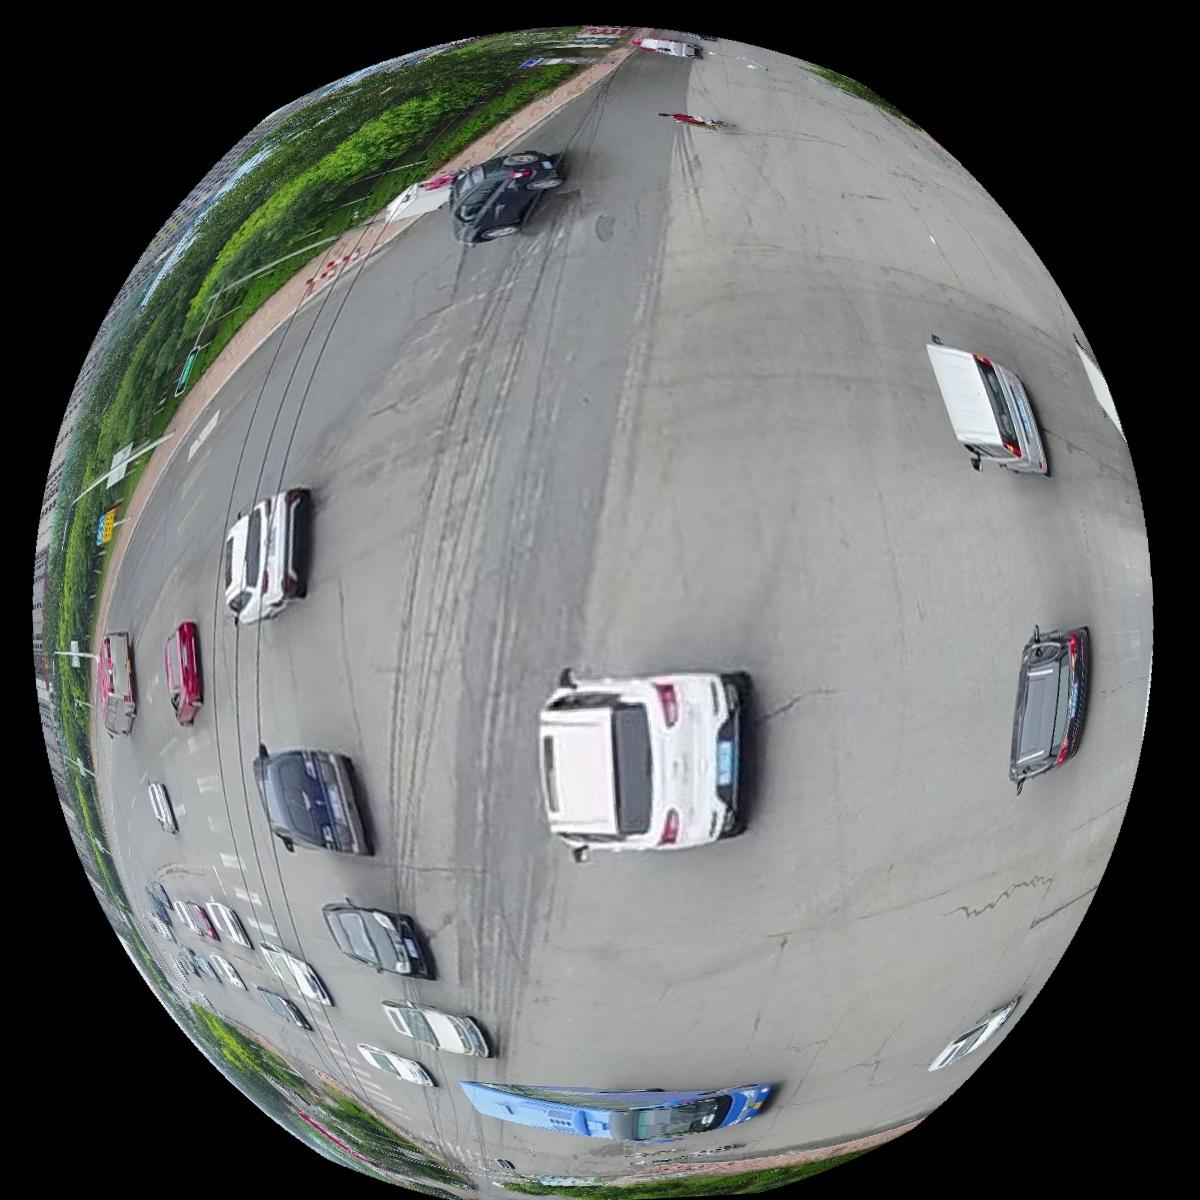cars: (538, 667, 751, 862), (459, 1080, 773, 1144), (927, 333, 1052, 475), (1010, 623, 1091, 793), (252, 742, 371, 855), (220, 485, 309, 623), (447, 147, 563, 242), (322, 897, 435, 980), (929, 998, 1020, 1071), (380, 1000, 492, 1057), (257, 941, 332, 1005), (162, 618, 201, 724), (96, 631, 134, 733), (356, 1044, 435, 1087), (256, 986, 311, 1031), (203, 898, 252, 946), (146, 780, 176, 833), (209, 952, 244, 990)
trees: (182, 84, 475, 336), (91, 295, 192, 465), (560, 1149, 866, 1200)
